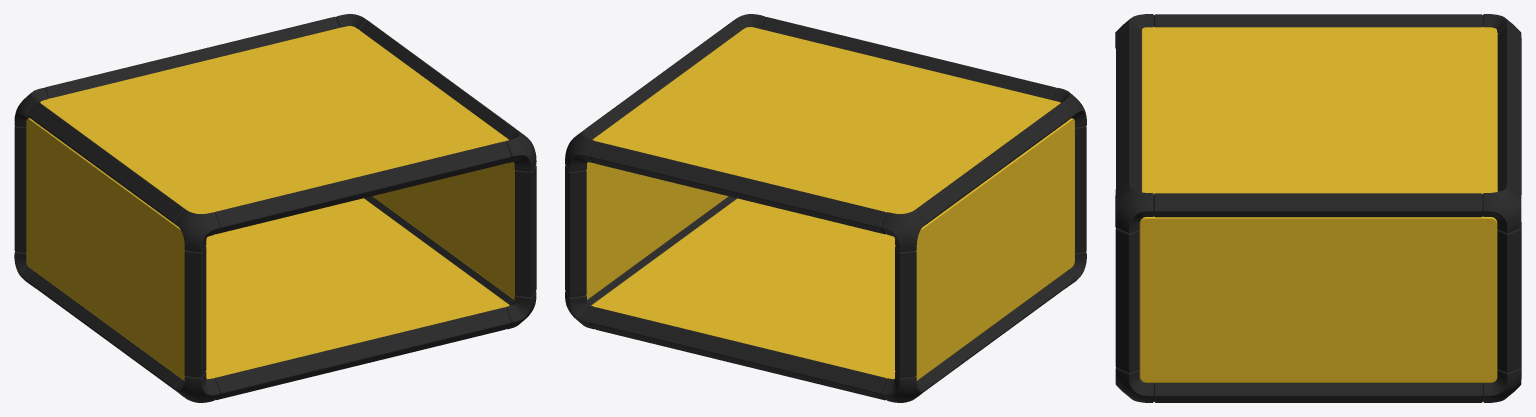
The picture shows the model from 3 angles, left to right: view 1: azimuth 30°, elevation 25°; view 2: azimuth 150°, elevation 25°; view 3: azimuth 270°, elevation 25°; orthographic projection. The views are drawn at different scales.
Visible parts, largest first — view 1: 374x329x154; view 2: 374x329x154; view 3: 374x329x154.
Part boxes in pixels (left/top/right/bottom): 374x329x154: left=14, top=14, right=536, bottom=402; 374x329x154: left=565, top=14, right=1086, bottom=402; 374x329x154: left=1115, top=14, right=1521, bottom=402.
Size of the model in its own units: 0.4517 by 0.2317 by 0.4063.
